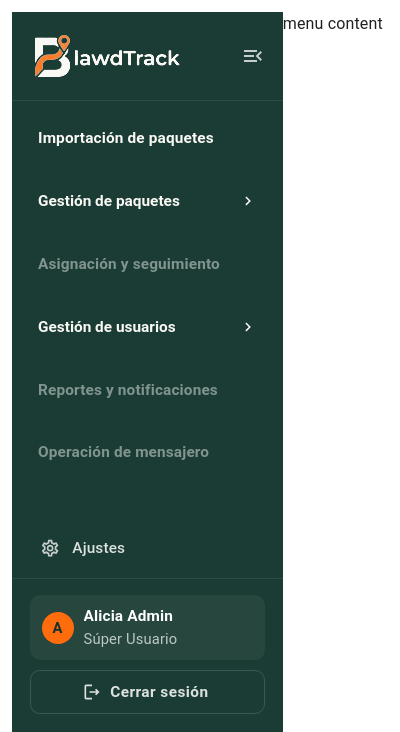
Test case: MainMenuLayout sidebar › collapsed sidebar › hover flyouts › opens a group menu on hover and closes it when the cursor leaves
Click the button named "Colapsar menú": (253, 56) [231,34,275,78]
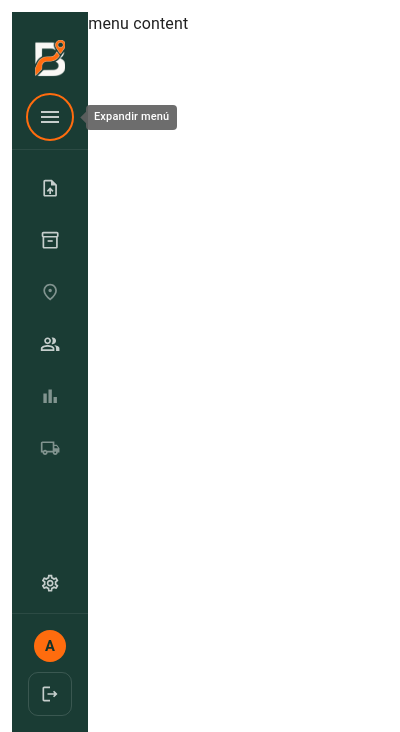
Hover over the button named "Gestión de usuarios": (50, 344) [28,322,72,366]
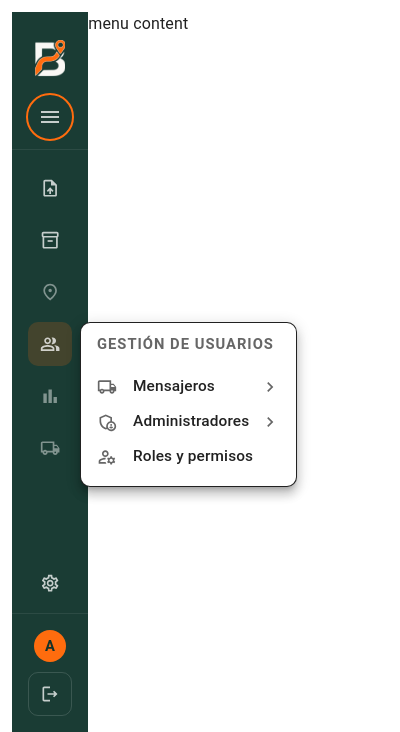
Expected: the menu item "Mensajeros" is shown, [97,377,280,397]
Expected: the menu item "Administradores" is shown, [97,412,280,432]
Move the pointer off the button named "Gestión de usuarios", box [28,322,72,366]
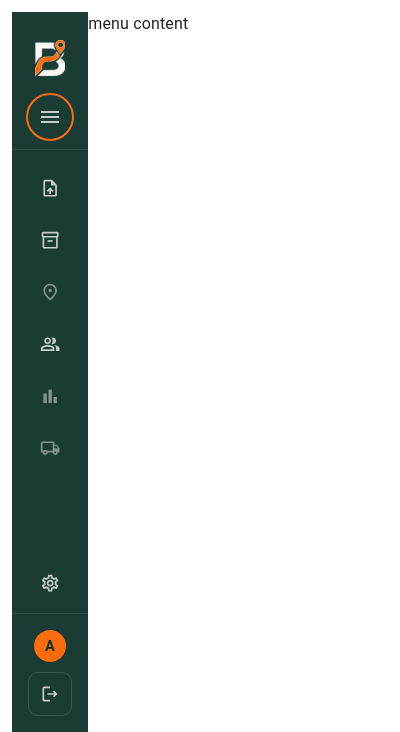
Expected: the menu item "Mensajeros" is gone
